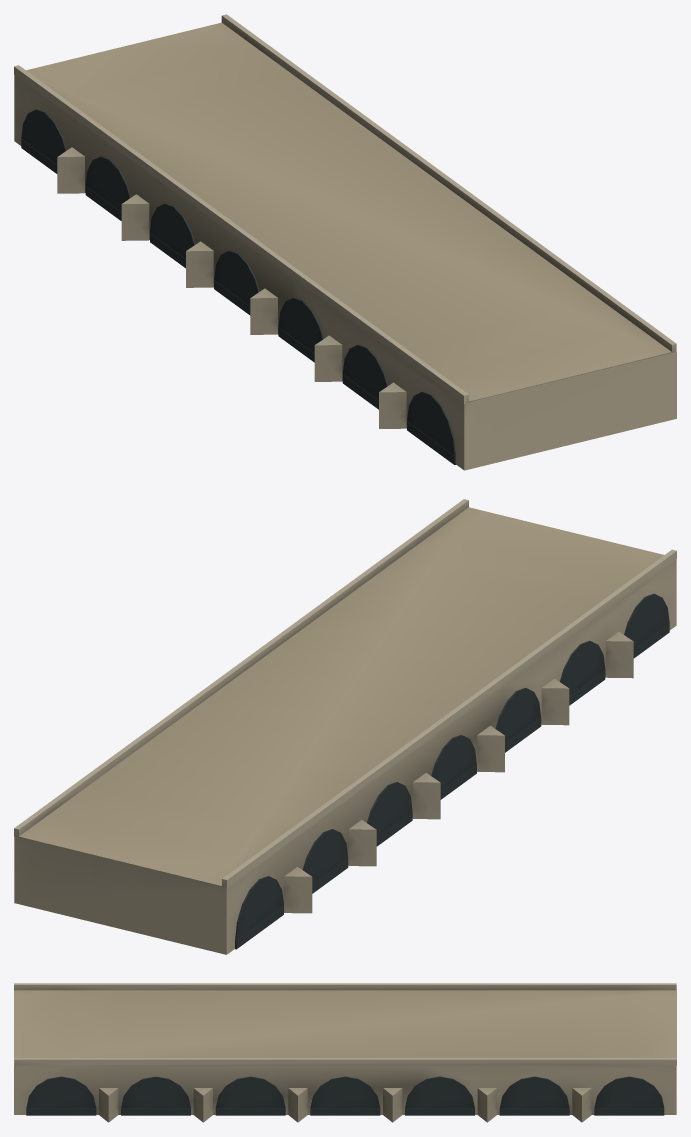
File: pont-au-change-1789.glb
3 renders of one model, top to bottom at view 1: azimuth 30°, elevation 25°; view 2: azimuth 150°, elevation 25°; view 3: azimuth 270°, elevation 25°, orthographic. The views are drawn at different scales.
Parts seen in each view (by area): view 1: p0_arches; view 2: p0_arches; view 3: p0_arches.
Boxes of the visible parts, box(x1,y1,x2,y2) form: p0_arches: box(14, 14, 676, 470); p0_arches: box(14, 499, 676, 954); p0_arches: box(14, 983, 676, 1122).
Bounding box in the file's own units: 36 × 10.14 × 110.
